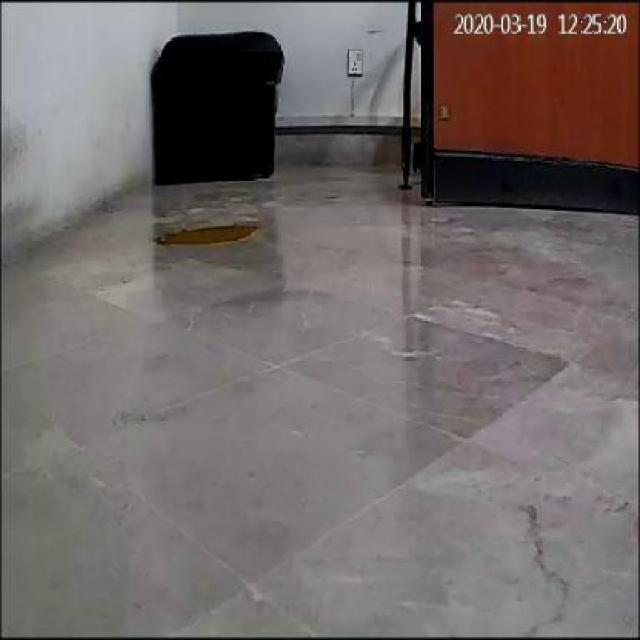spill: (149, 220, 263, 252)
